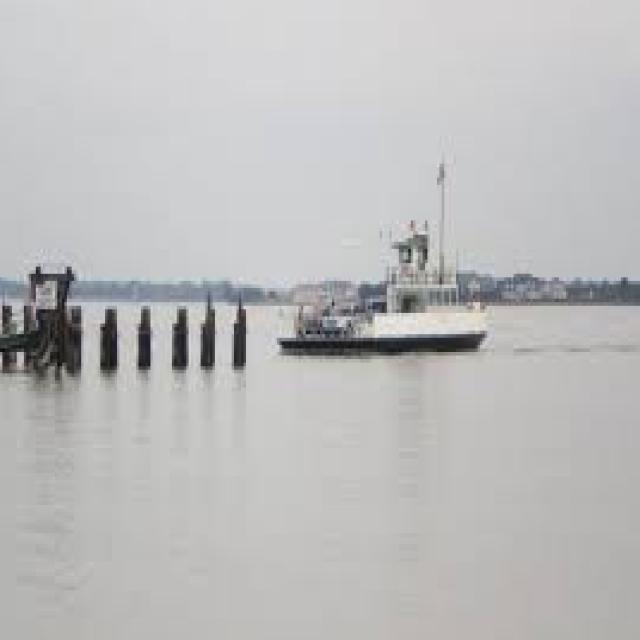houseboat: (280, 158, 492, 353)
